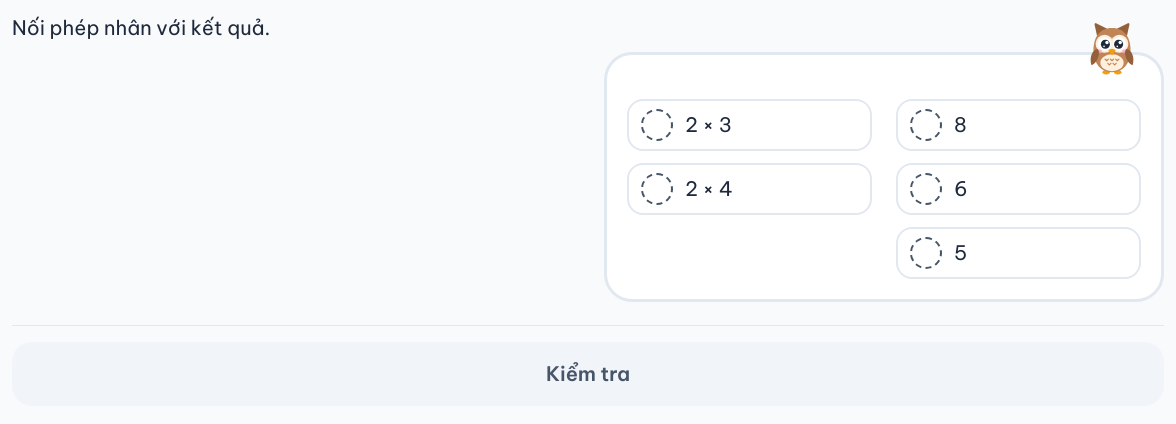
MatchAnswer › moves a pair when an item is paired again and splits it on a repeat
Click the button "2 × 3": (750, 125) [627,99,872,151]
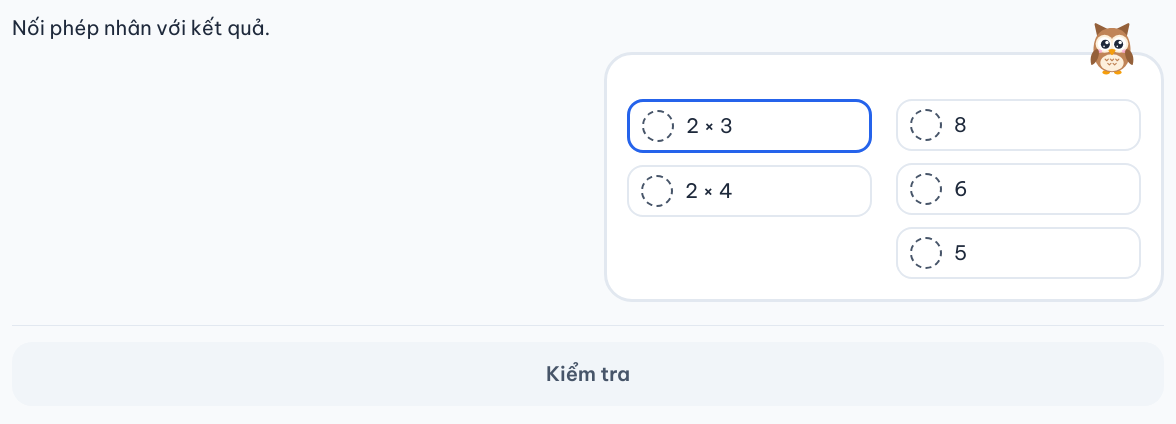
Click the button "6": (1018, 189) [896,163,1141,215]
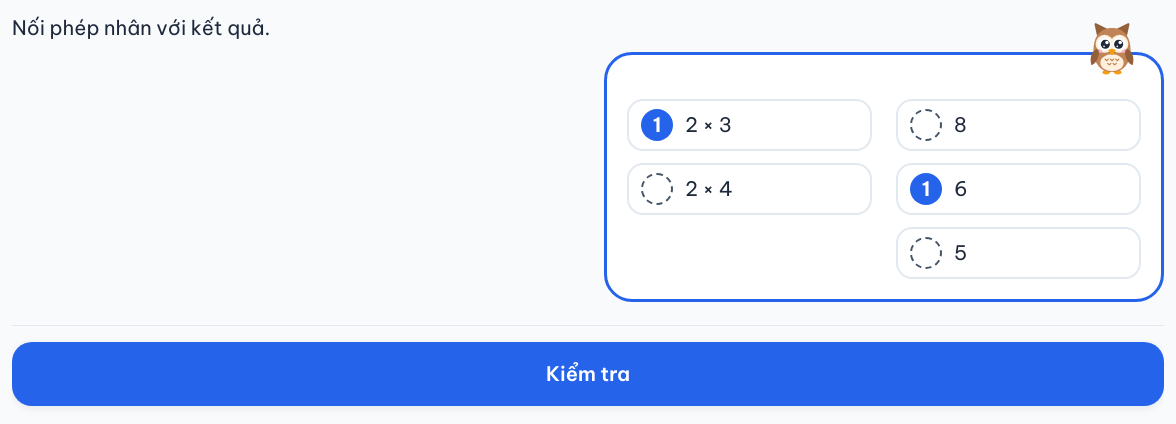
Click the button "2 × 4": (750, 189) [627,163,872,215]
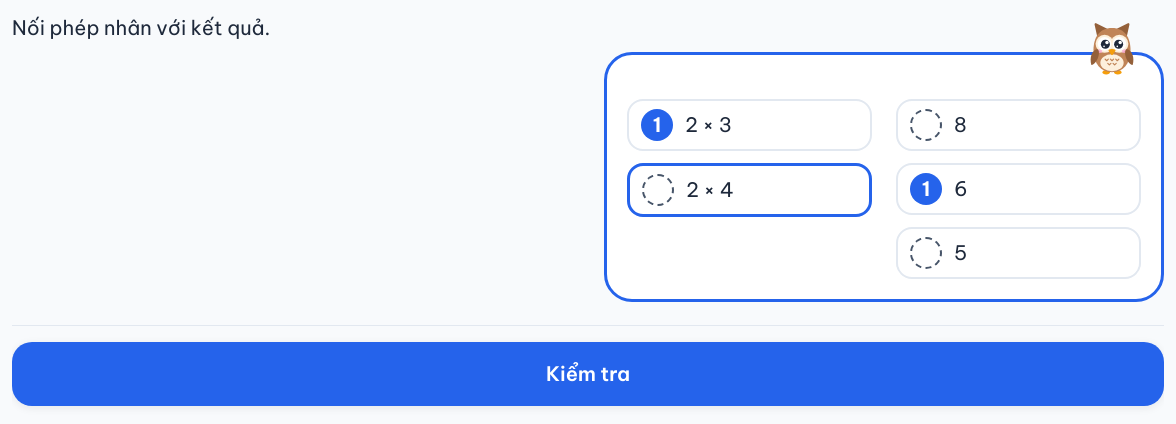
Click the button "1 6": (1018, 189) [896,163,1141,215]
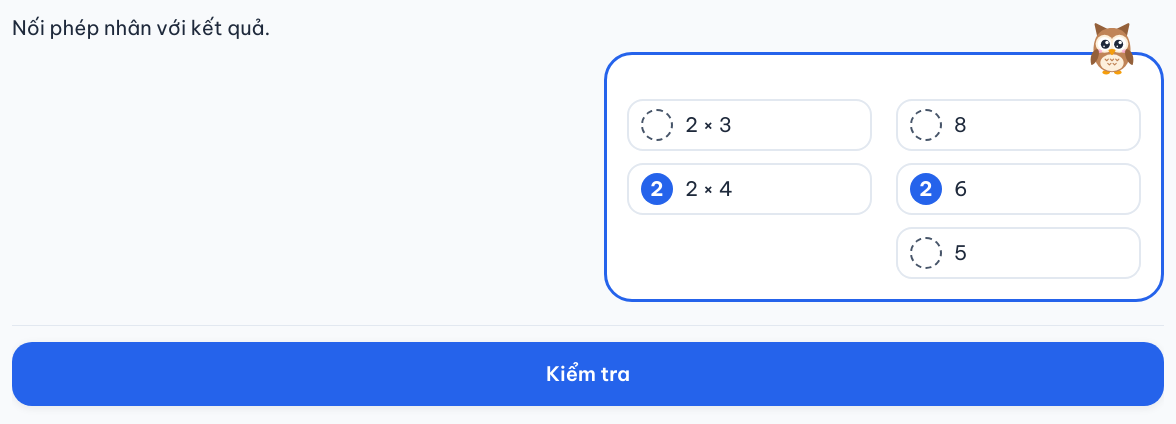
Click the button "2 2 × 4": (750, 189) [627,163,872,215]
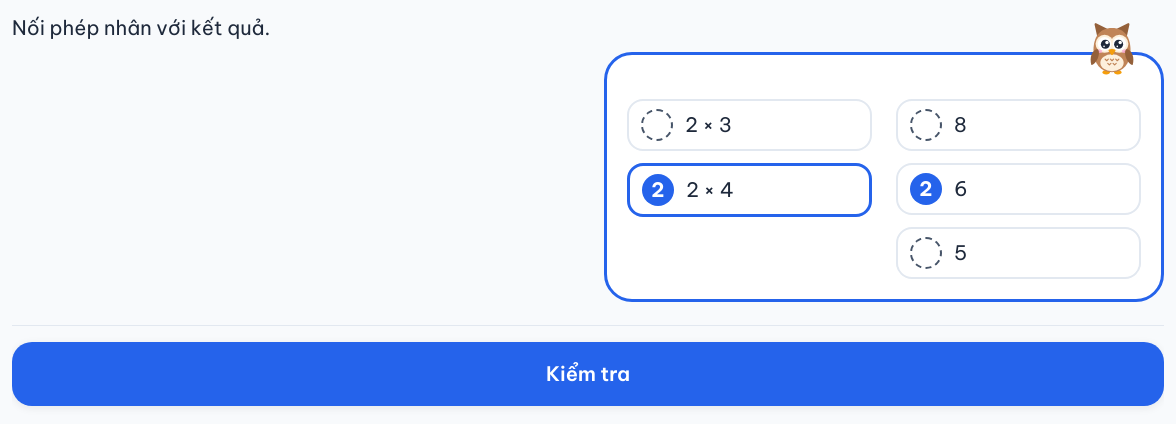
Click the button "2 6": (1018, 189) [896,163,1141,215]
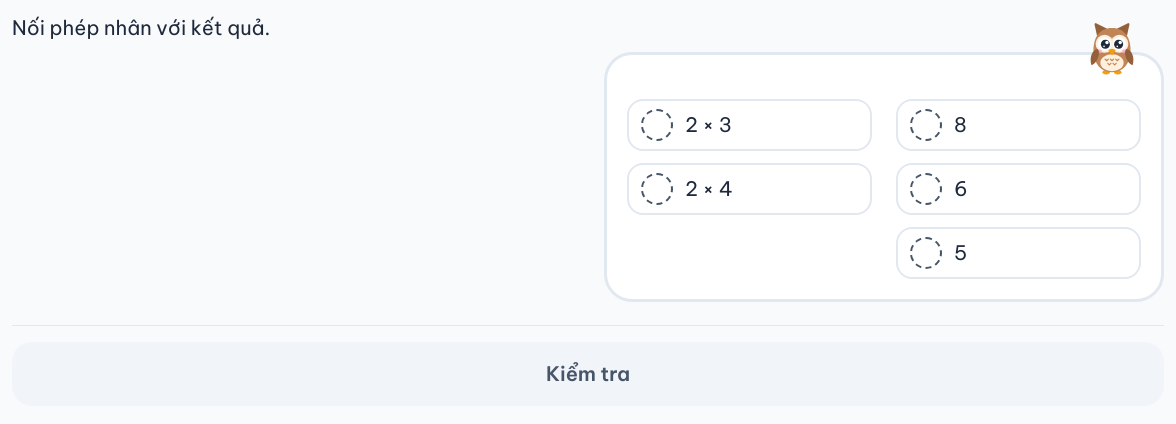
Result: the button "Kiểm tra" is disabled at [12,342,1164,406]
